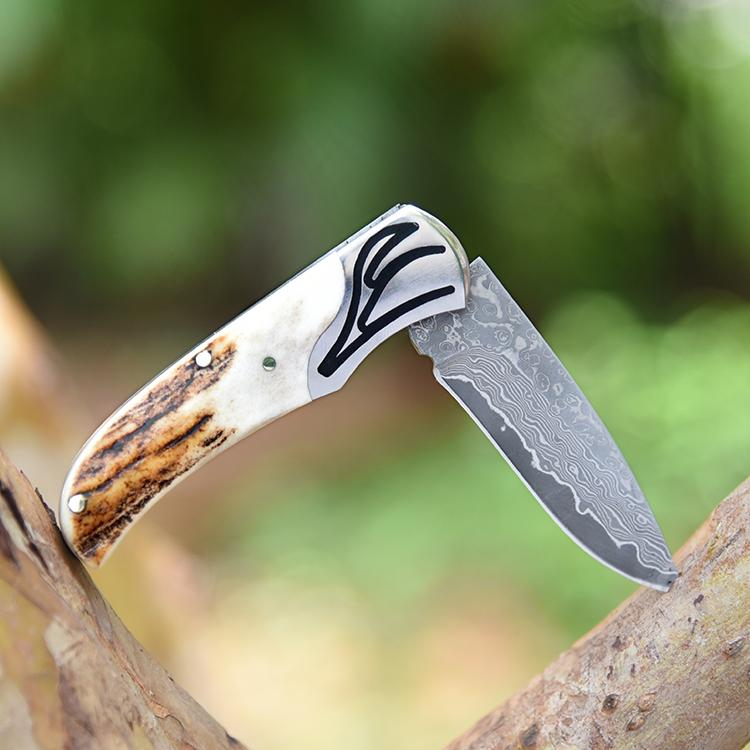knife: (31, 181, 698, 718)
